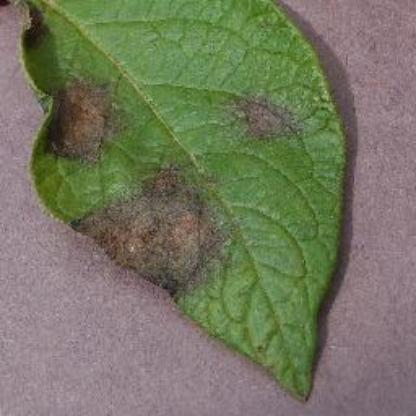Late-Blight: (14, 0, 360, 406)
